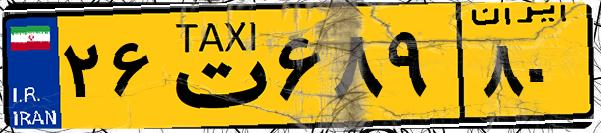0: (525, 38, 570, 115)
2: (57, 26, 110, 100)
6: (270, 28, 330, 110), (110, 28, 158, 98)
8: (330, 28, 385, 110), (475, 38, 525, 113)
9: (385, 28, 445, 110)
ت: (158, 12, 270, 120)
